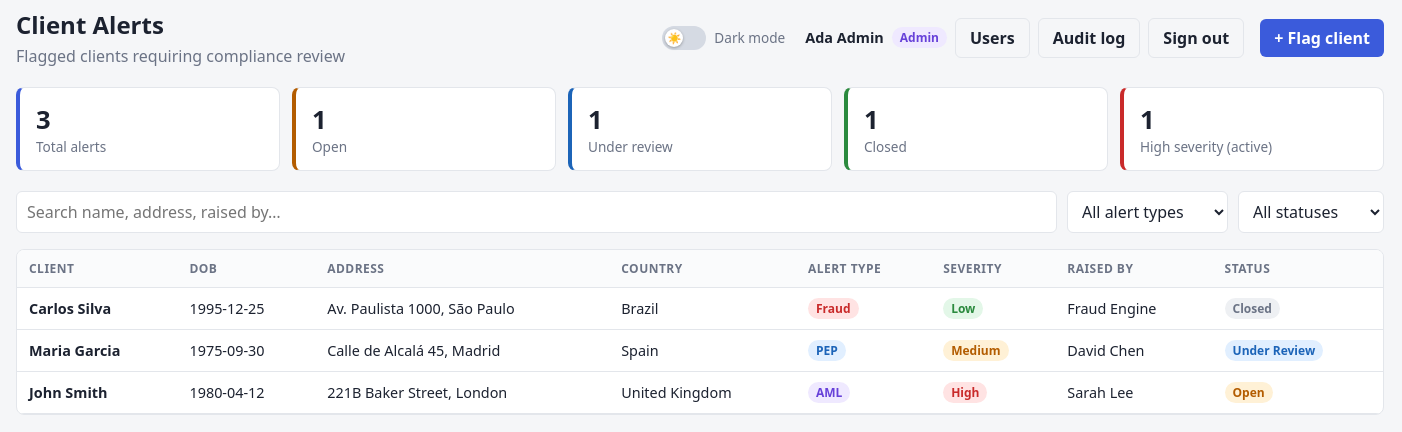
Test: filtering › filters by alert type and status
The width and height of the screenshot is (1402, 432).
Expected: the text "John Smith" is shown, [17,372,177,414]
Select "Fraud" in the dropdown named "Filter by alert type". click: (1148, 212)
box: [1067,191,1228,233]
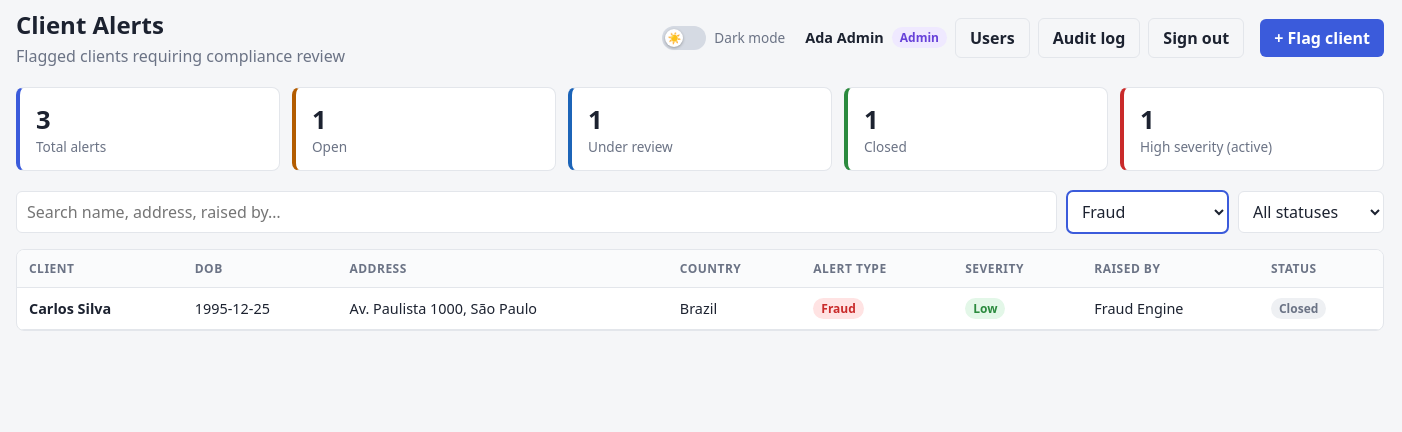
Expected: the row "Carlos Silva" is shown, [17,288,1383,330]
Now the cell "John Smith" is gone
Select "Open" in the dropdown named "Filter by status". click: (1311, 212)
box: [1238,191,1384,233]
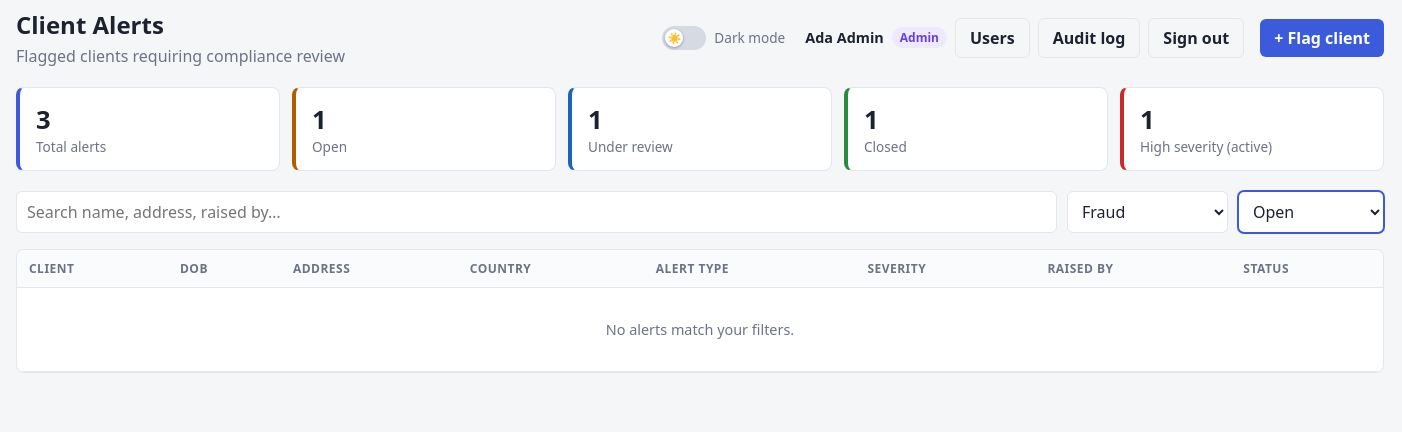
Now the text "No alerts match your filters." is shown, box [17,288,1383,372]
